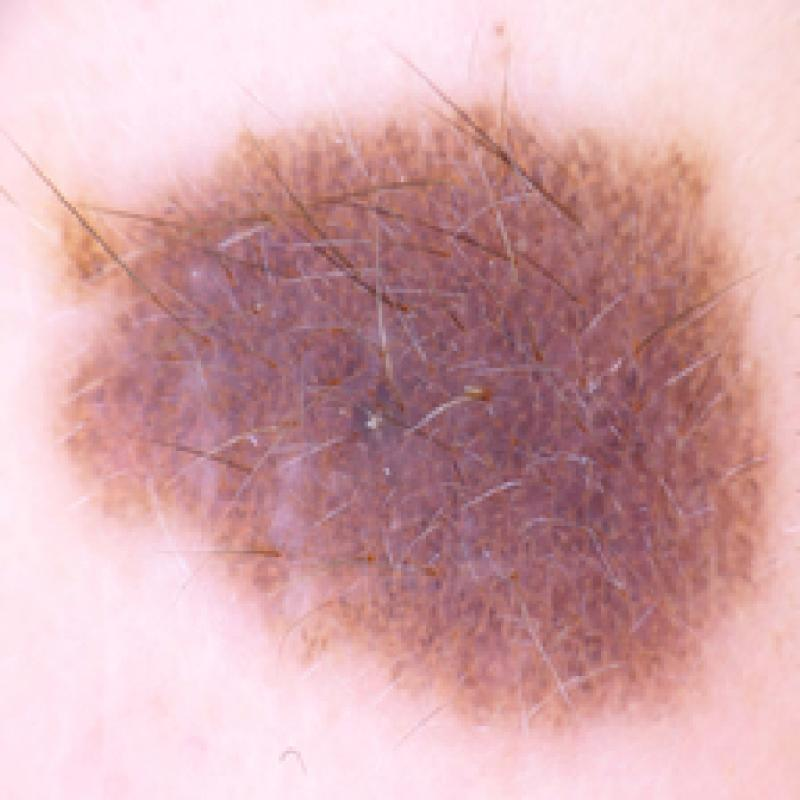benign: (64, 67, 784, 731)
